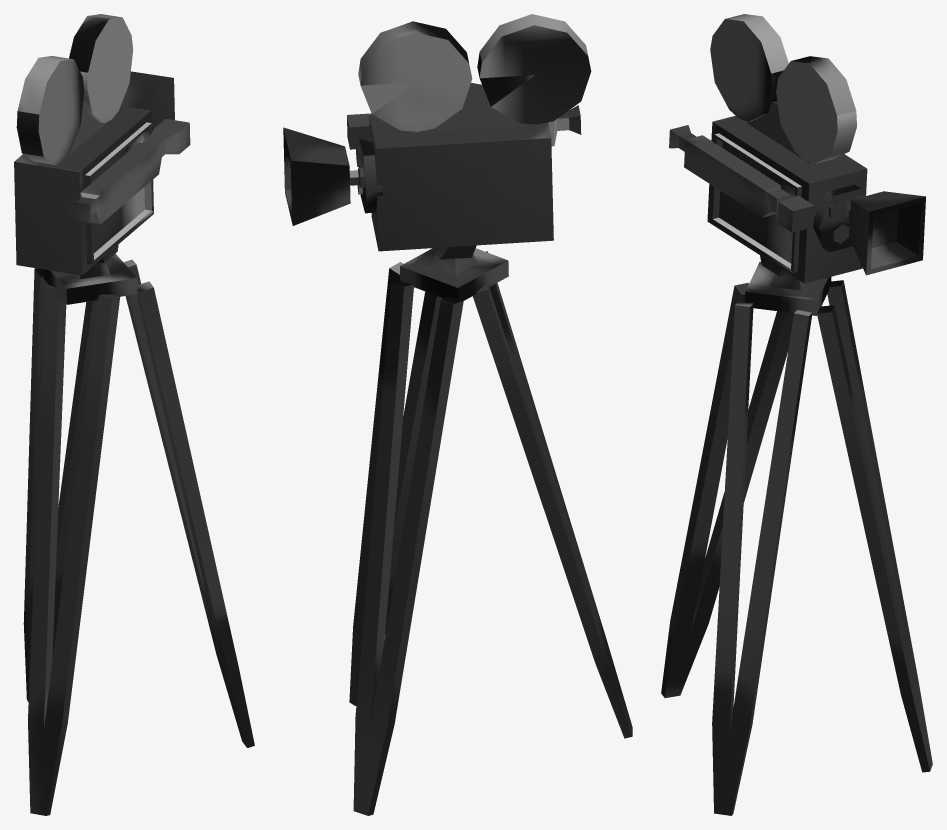
The model's file is camera.obj.
3 renders of one model, left to right at view 1: azimuth 30°, elevation 25°; view 2: azimuth 150°, elevation 25°; view 3: azimuth 270°, elevation 25°, orthographic. The views are drawn at different scales.
Parts seen in each view (by area): view 1: Mesh_0_Mesh_0_blinn7SG; view 2: Mesh_0_Mesh_0_blinn7SG; view 3: Mesh_0_Mesh_0_blinn7SG.
Boxes of the visible parts, <box> form: Mesh_0_Mesh_0_blinn7SG: <box>14,14,254,815</box>; Mesh_0_Mesh_0_blinn7SG: <box>283,14,632,815</box>; Mesh_0_Mesh_0_blinn7SG: <box>661,14,932,815</box>.
Size of the model in its own units: 0.3295 by 0.9236 by 0.3186.
Materials: 1 (1 with a texture image).
